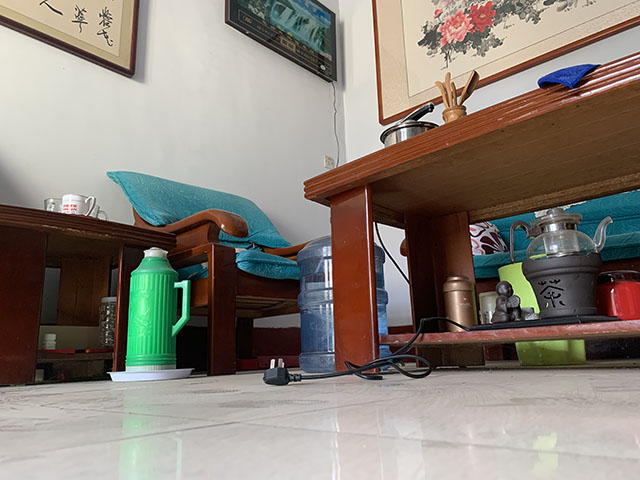sofa: (107, 169, 315, 377)
table: (302, 51, 640, 377), (1, 203, 176, 391)
trash can: (498, 260, 587, 367)
wire: (262, 312, 624, 387)
